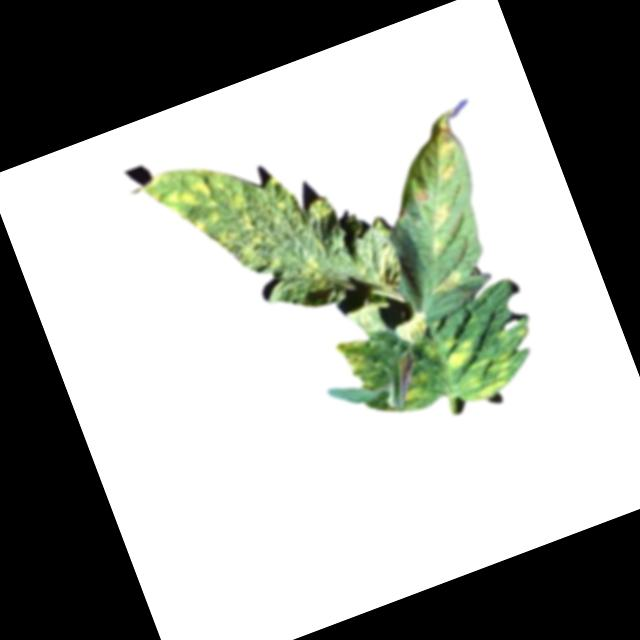Leaf_Mold: (138, 143, 282, 303), (433, 308, 547, 409), (331, 331, 380, 380), (422, 117, 461, 159), (393, 310, 435, 347), (423, 198, 461, 233), (431, 263, 469, 298), (293, 250, 328, 285), (422, 233, 450, 262), (436, 157, 459, 182)
